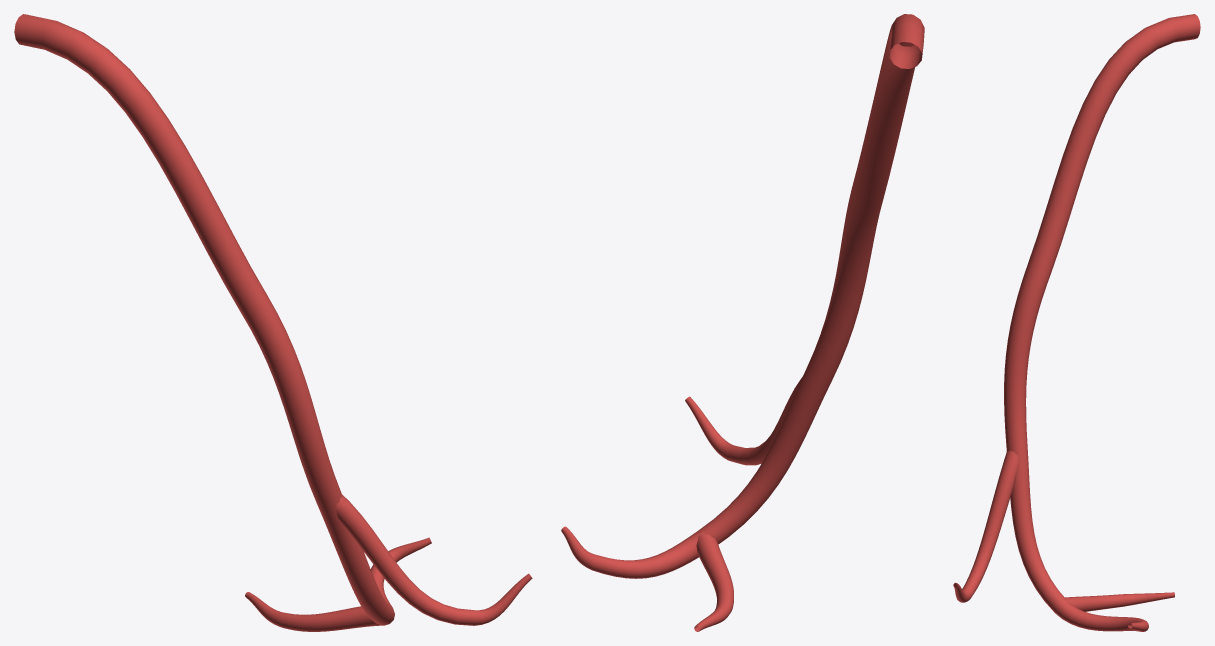
3 renders of one model, left to right at view 1: azimuth 30°, elevation 25°; view 2: azimuth 150°, elevation 25°; view 3: azimuth 270°, elevation 25°, orthographic. The views are drawn at different scales.
Visible parts, largest first — view 1: 左侧髂腰动脉腰支; view 2: 左侧髂腰动脉腰支; view 3: 左侧髂腰动脉腰支.
Part boxes in pixels (bbox=[...]): 左侧髂腰动脉腰支: bbox=[14, 14, 532, 631]; 左侧髂腰动脉腰支: bbox=[561, 14, 924, 631]; 左侧髂腰动脉腰支: bbox=[953, 14, 1200, 631].
Size of the model in its own units: 0.0407 by 0.0648 by 0.0286.
